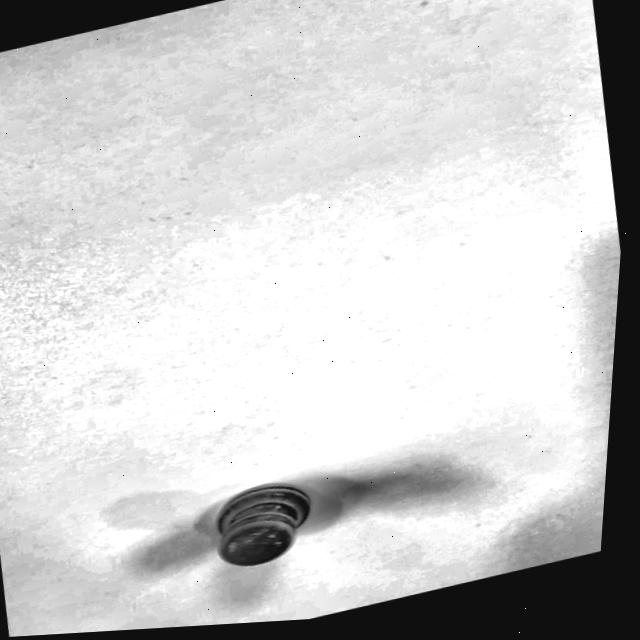black-pawn: (190, 455, 339, 586)
